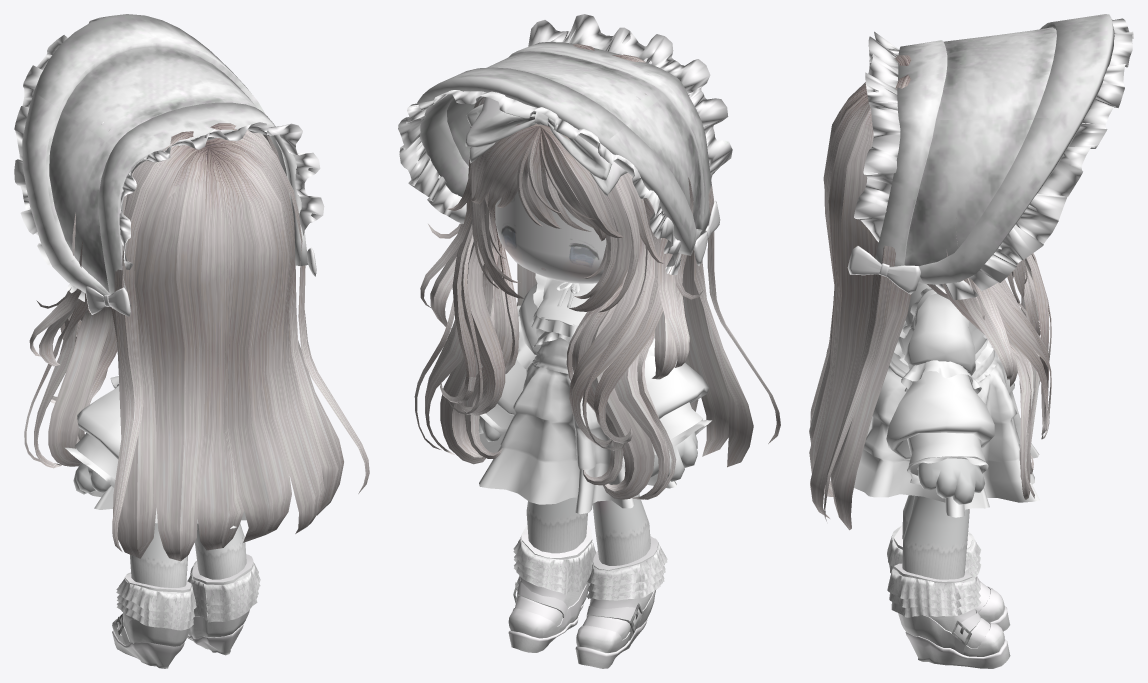
File: r15_doll.glb
The picture shows the model from 3 angles, left to right: view 1: azimuth 30°, elevation 25°; view 2: azimuth 150°, elevation 25°; view 3: azimuth 270°, elevation 25°; orthographic projection. The views are drawn at different scales.
Parts seen in each view (by area): view 1: Handle5, Handle7, Handle1, Handle3, Handle4, Rig11, Rig8, Rig12; view 2: Handle5, Handle7, Handle2, Handle4, Handle3, Handle1, Handle6, Handle8, Rig11, Rig8, Rig12; view 3: Handle7, Handle5, Handle4, Handle2, Handle3, Rig8, Rig2, Handle1, Rig7.
Boxes of the visible parts, x1=… form: Handle5: x1=24, y1=123, x2=369, y2=561; Handle7: x1=14, y1=14, x2=324, y2=316; Handle1: x1=112, y1=572, x2=196, y2=668; Handle3: x1=187, y1=554, x2=260, y2=655; Handle4: x1=65, y1=376, x2=121, y2=487; Rig11: x1=130, y1=536, x2=187, y2=587; Rig8: x1=194, y1=523, x2=246, y2=579; Rig12: x1=73, y1=462, x2=110, y2=494; Handle5: x1=414, y1=44, x2=780, y2=499; Handle7: x1=398, y1=14, x2=732, y2=274; Handle2: x1=479, y1=337, x2=676, y2=514; Handle4: x1=480, y1=273, x2=711, y2=454; Handle3: x1=508, y1=525, x2=596, y2=652; Handle1: x1=575, y1=536, x2=667, y2=668; Handle6: x1=495, y1=191, x2=606, y2=283; Handle8: x1=465, y1=96, x2=640, y2=196; Rig11: x1=592, y1=499, x2=650, y2=565; Rig8: x1=526, y1=497, x2=587, y2=553; Rig12: x1=650, y1=432, x2=697, y2=481; Handle7: x1=847, y1=14, x2=1133, y2=299; Handle5: x1=809, y1=55, x2=1051, y2=530; Handle4: x1=886, y1=283, x2=994, y2=484; Handle2: x1=854, y1=346, x2=1039, y2=517; Handle3: x1=887, y1=563, x2=1010, y2=668; Rig8: x1=902, y1=511, x2=969, y2=579; Rig2: x1=917, y1=458, x2=984, y2=504; Handle1: x1=887, y1=525, x2=1010, y2=631; Rig7: x1=911, y1=496, x2=969, y2=525.
Bounding box in the file's own units: 2.03 × 4.35 × 2.06.
10 materials, 9 textured.
